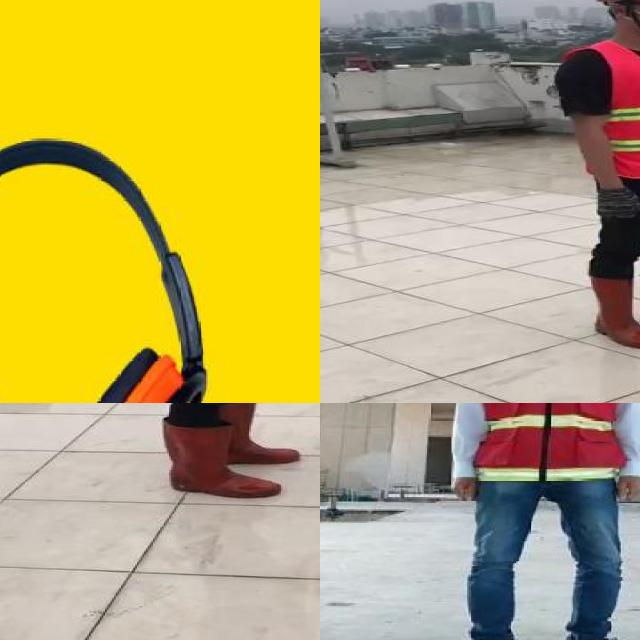Ear-protection: (0, 156, 214, 403)
boots: (155, 416, 283, 502), (215, 403, 298, 466), (586, 273, 640, 349)
hand_glove: (590, 183, 640, 220)
hand_noglove: (442, 469, 482, 505), (610, 467, 640, 506)
person: (432, 403, 640, 640), (550, 0, 640, 354), (123, 403, 313, 502)
vest: (455, 403, 640, 485), (575, 41, 640, 175)
